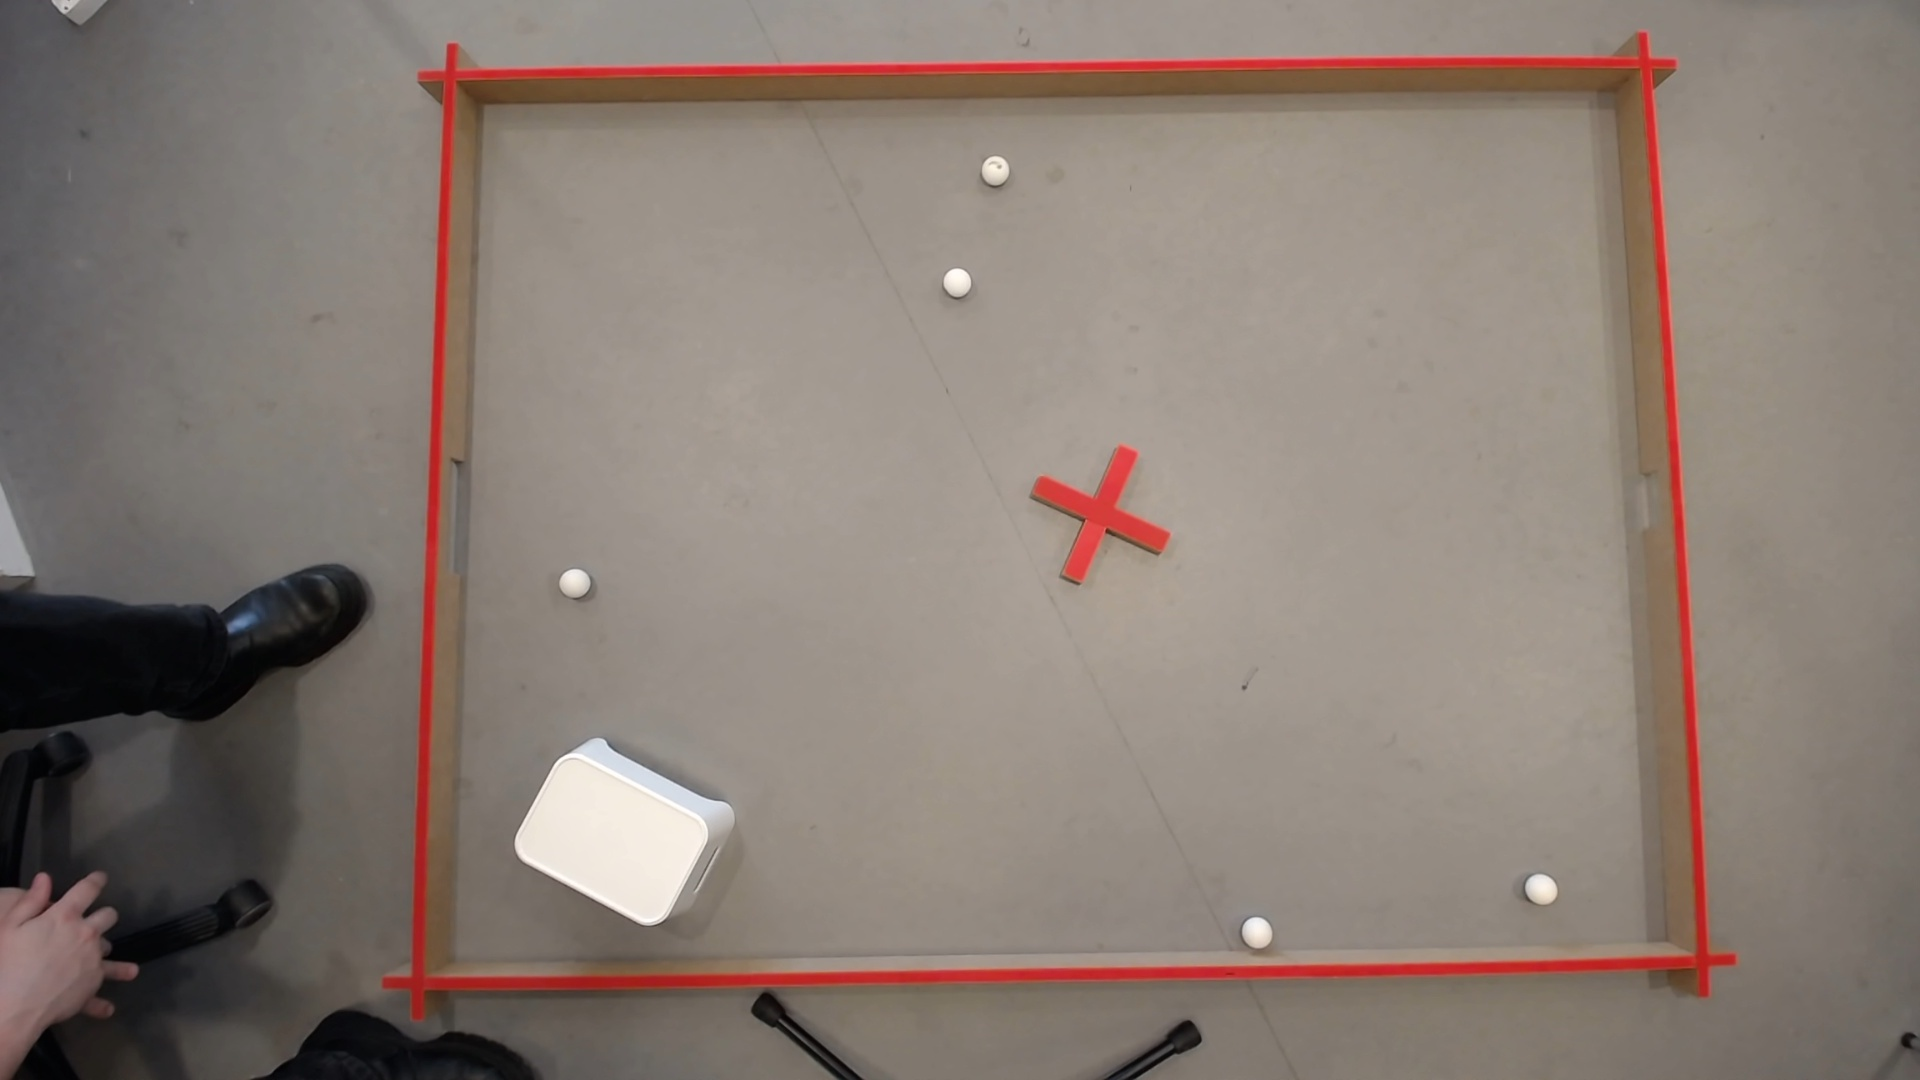balls: (505, 723, 731, 934), (1236, 910, 1278, 951), (1522, 868, 1561, 906), (939, 262, 976, 299), (556, 563, 592, 597)
car: (977, 150, 1011, 185)
